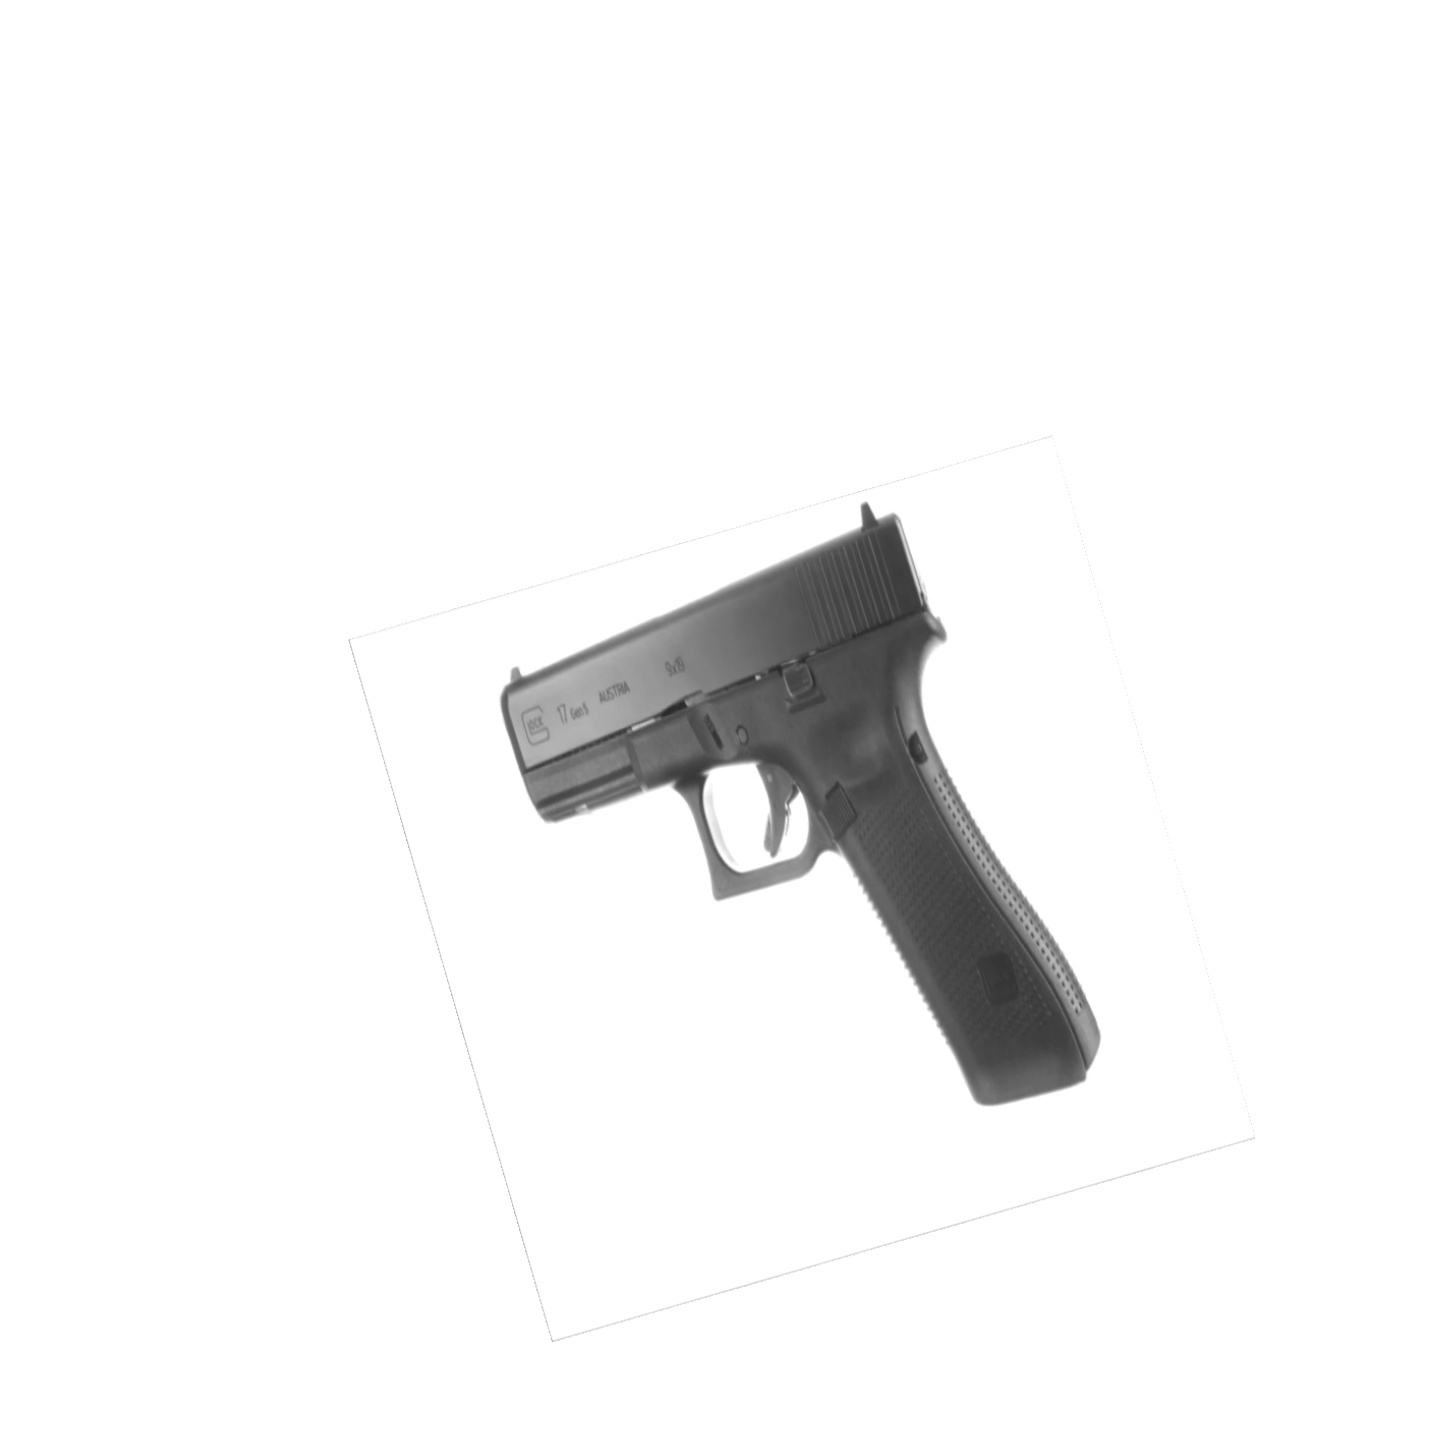gun: (496, 494, 1107, 1114)
